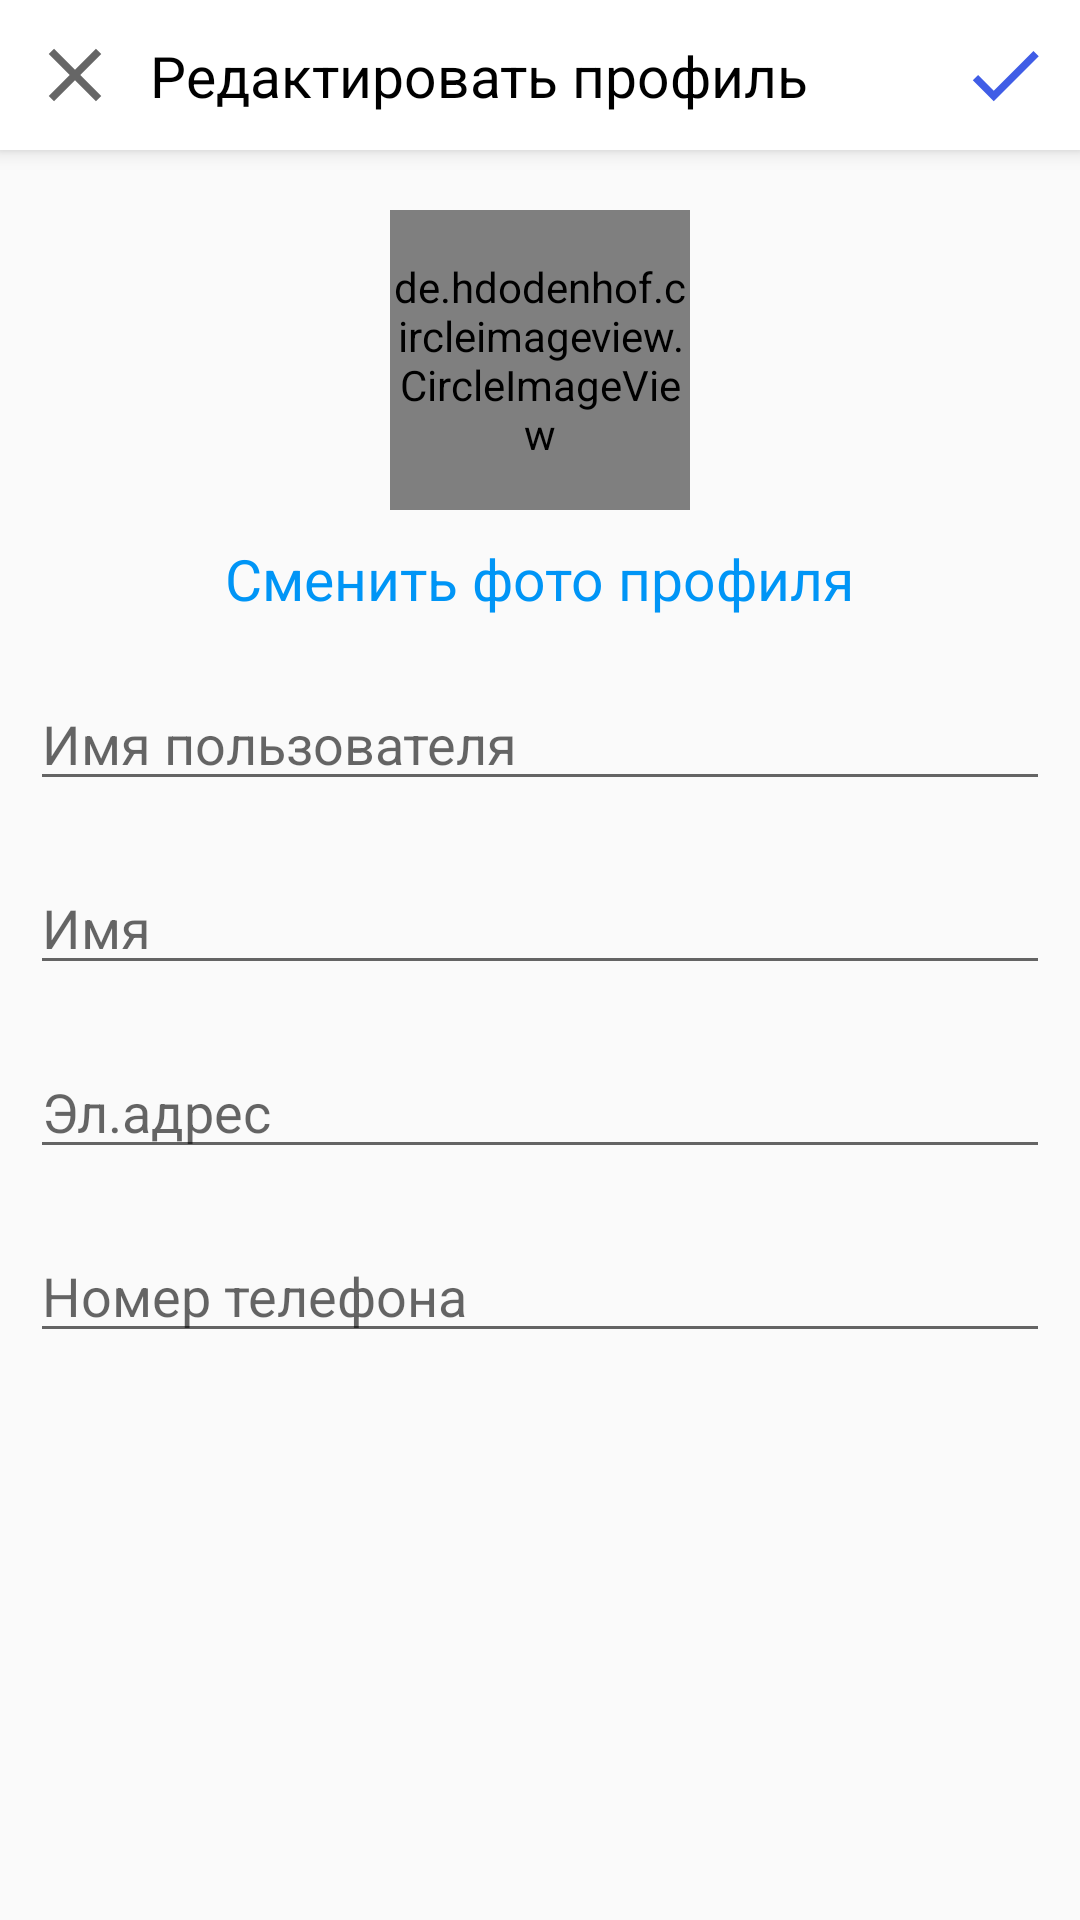

Named icons in this screenshot (1080*1920) and their centers, point (x, y):
check: point (1006, 76)
close: point (75, 75)
